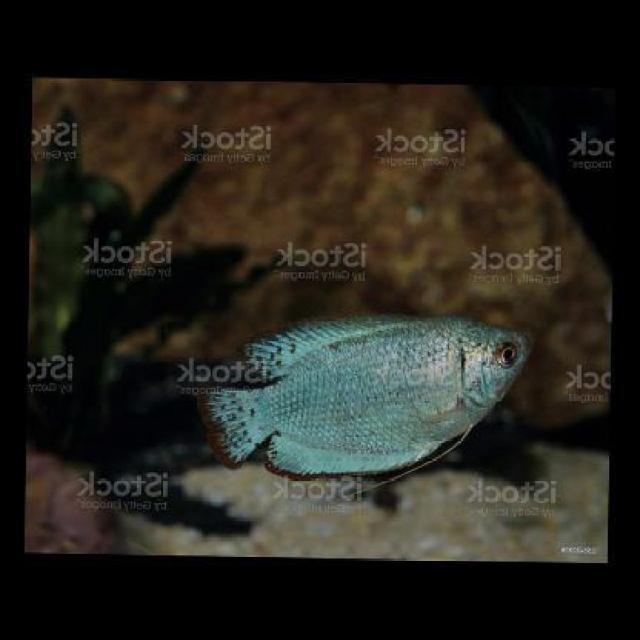Gourami: (201, 306, 541, 486)
